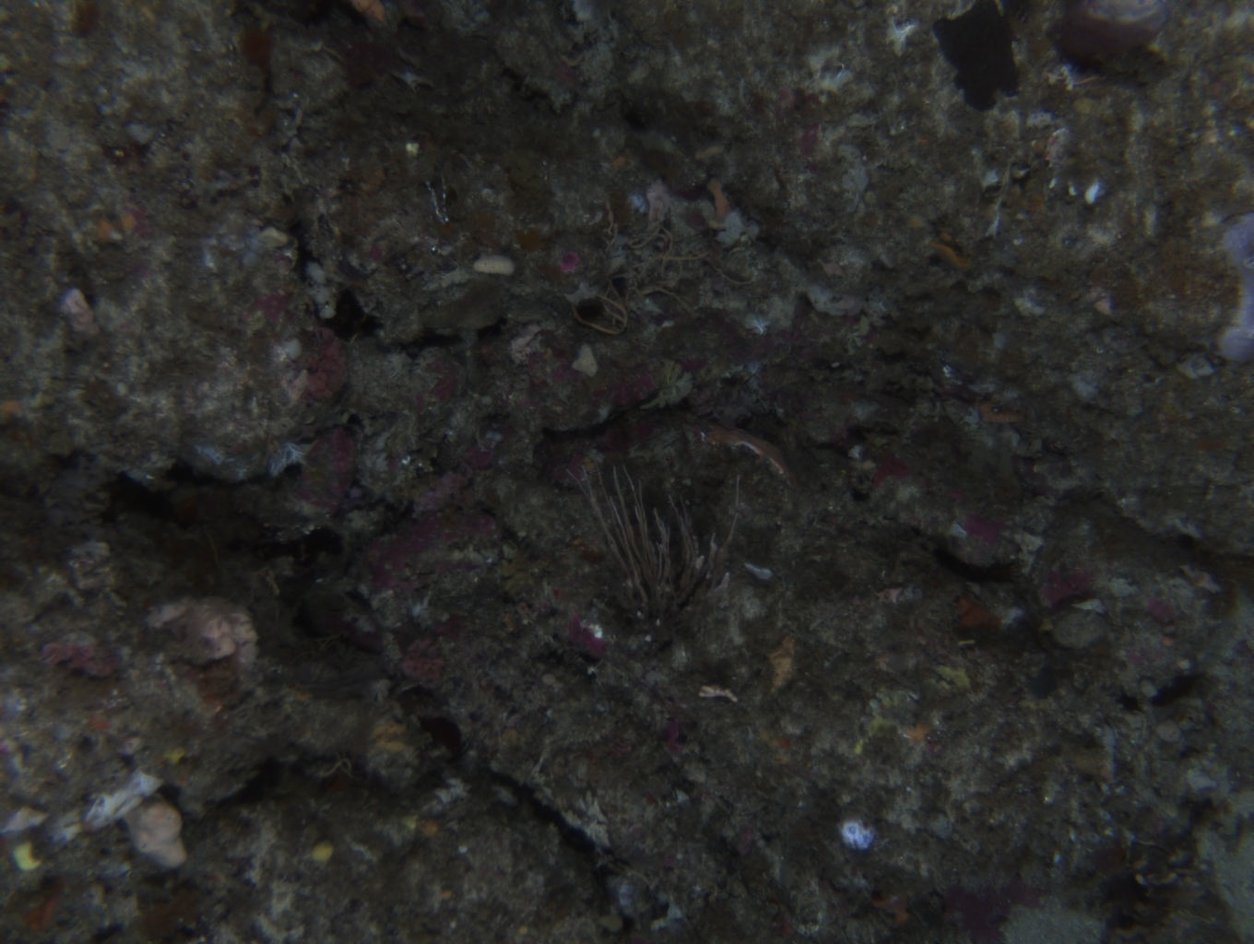Brachionichthyidae: (864, 886, 916, 927)
